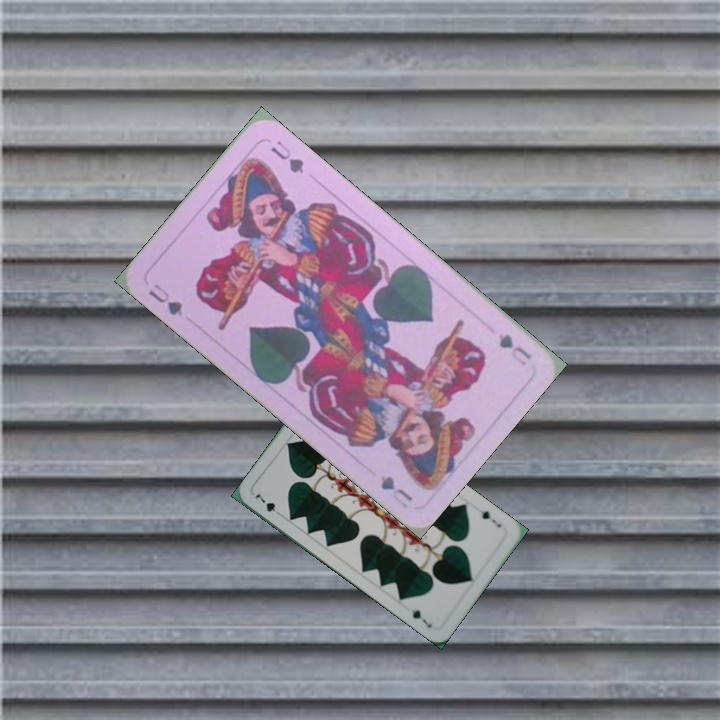G7: (251, 490, 285, 519), (477, 507, 504, 530)
GU: (144, 279, 185, 320), (494, 329, 535, 369)
